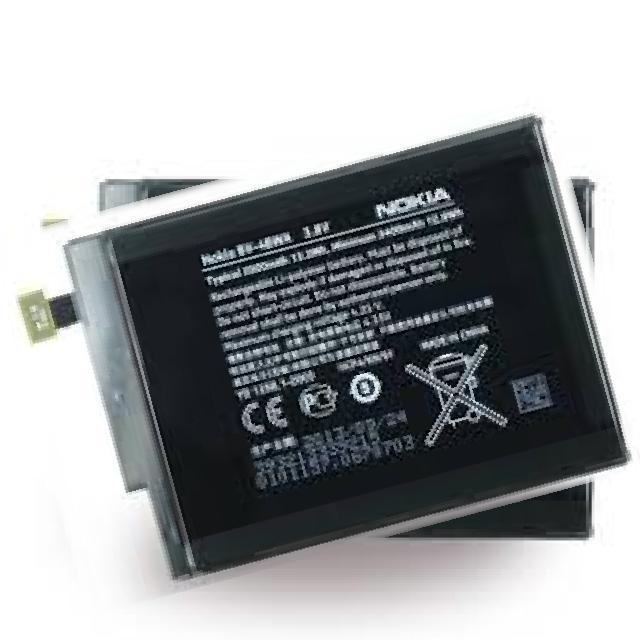Battery: (10, 104, 639, 592)
